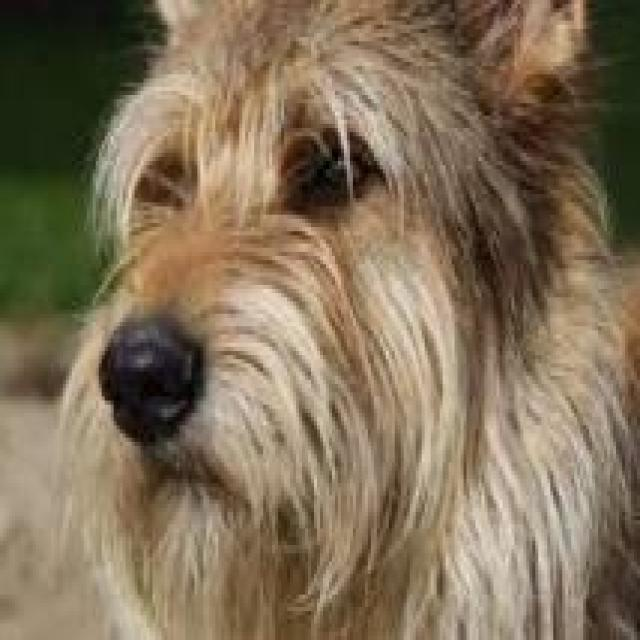Perro: (3, 4, 637, 640)
